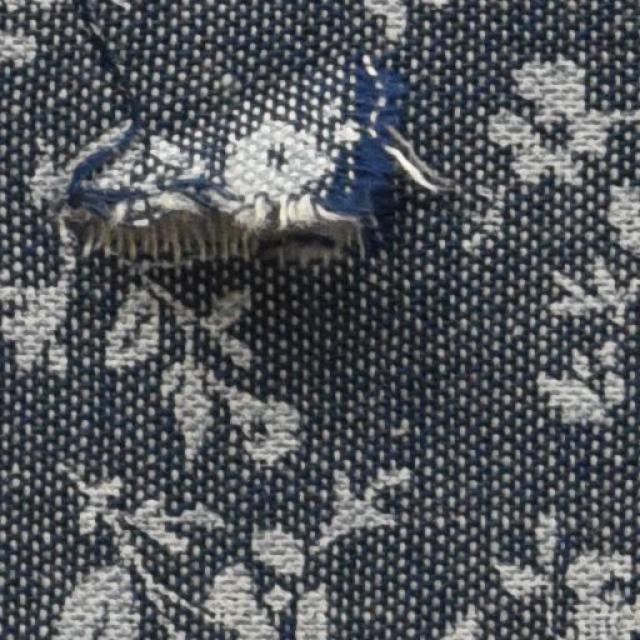Snag: (46, 49, 434, 278)
